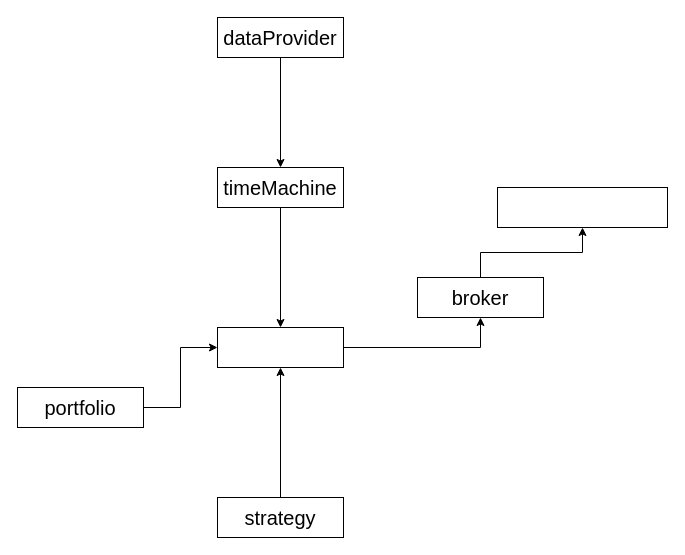
Image size: 685x555. Some labels were removed from this diagram. The shapes that lost their labels are listed below. From the top down, each one's box as (x1, y1, x2, y2) in pixels, then its label:
(496, 186, 668, 228): executionEngine
(216, 326, 344, 368): backtest
